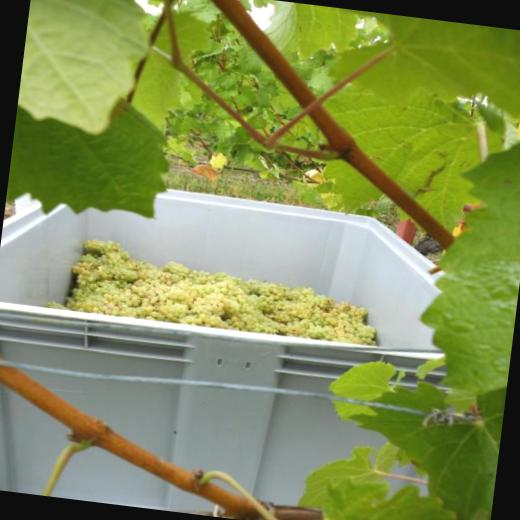Orange: (45, 234, 382, 347)
